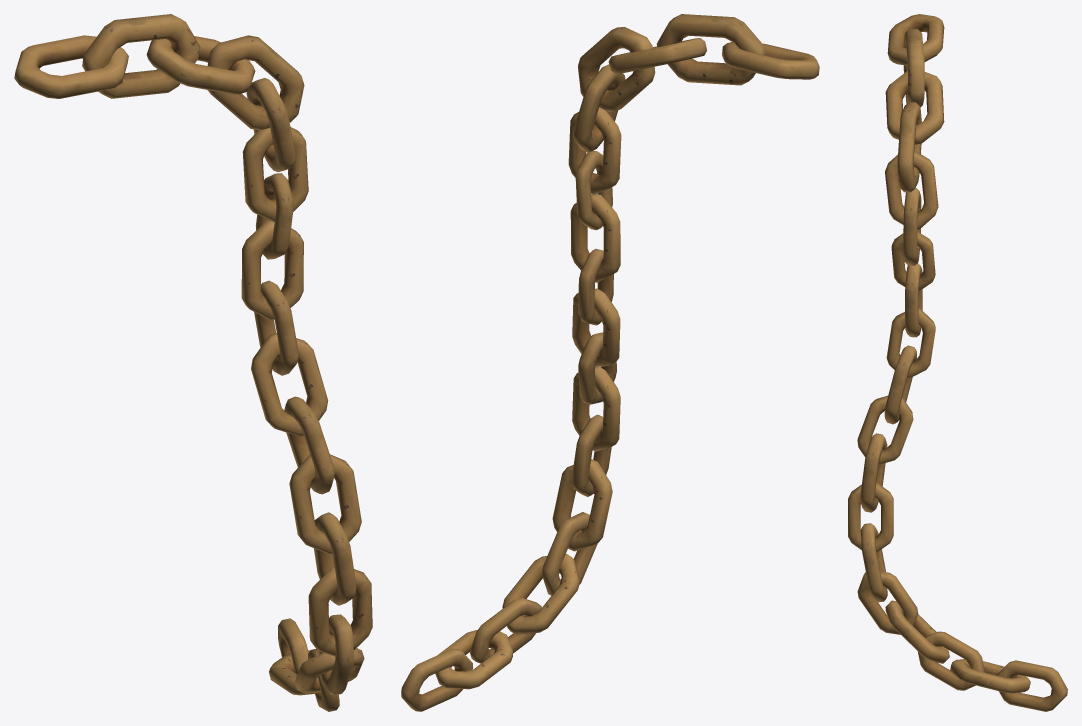
3 renders of one model, left to right at view 1: azimuth 30°, elevation 25°; view 2: azimuth 150°, elevation 25°; view 3: azimuth 270°, elevation 25°, orthographic. The views are drawn at different scales.
Visible parts, largest first — view 1: SM_Dragonkin_Chain_Cage_01_LOD0; view 2: SM_Dragonkin_Chain_Cage_01_LOD0; view 3: SM_Dragonkin_Chain_Cage_01_LOD0.
Part boxes in pixels (x1=…): SM_Dragonkin_Chain_Cage_01_LOD0: x1=14, y1=14, x2=372, y2=711; SM_Dragonkin_Chain_Cage_01_LOD0: x1=401, y1=14, x2=819, y2=711; SM_Dragonkin_Chain_Cage_01_LOD0: x1=848, y1=14, x2=1067, y2=711.
Size of the model in its own units: 1.82 by 3.65 by 1.24.
Materials: 1 (1 with a texture image).
